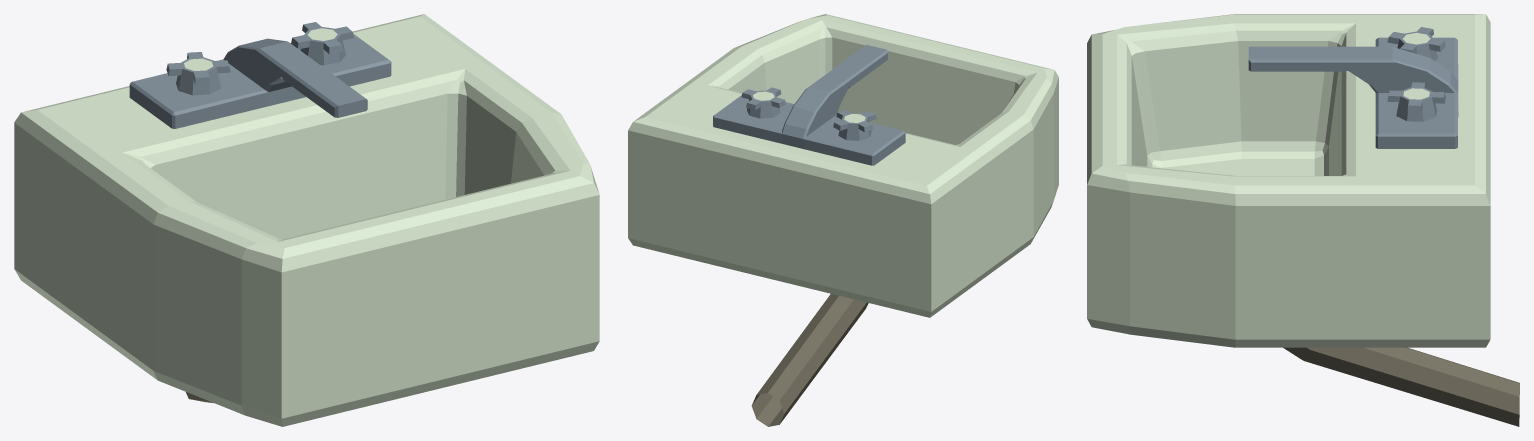
File: sink.glb
The picture shows the model from 3 angles, left to right: view 1: azimuth 30°, elevation 25°; view 2: azimuth 150°, elevation 25°; view 3: azimuth 270°, elevation 25°; orthographic projection. The views are drawn at different scales.
Parts seen in each view (by area): view 1: Sink; view 2: Sink; view 3: Sink.
Part boxes in pixels (x1,y1,x2,y2): Sink: [14, 14, 599, 426]; Sink: [628, 14, 1058, 426]; Sink: [1087, 14, 1519, 426].
Bounding box in the file's own units: 0.7309 × 0.6912 × 0.7268.
Materials: 1 (1 with a texture image).
